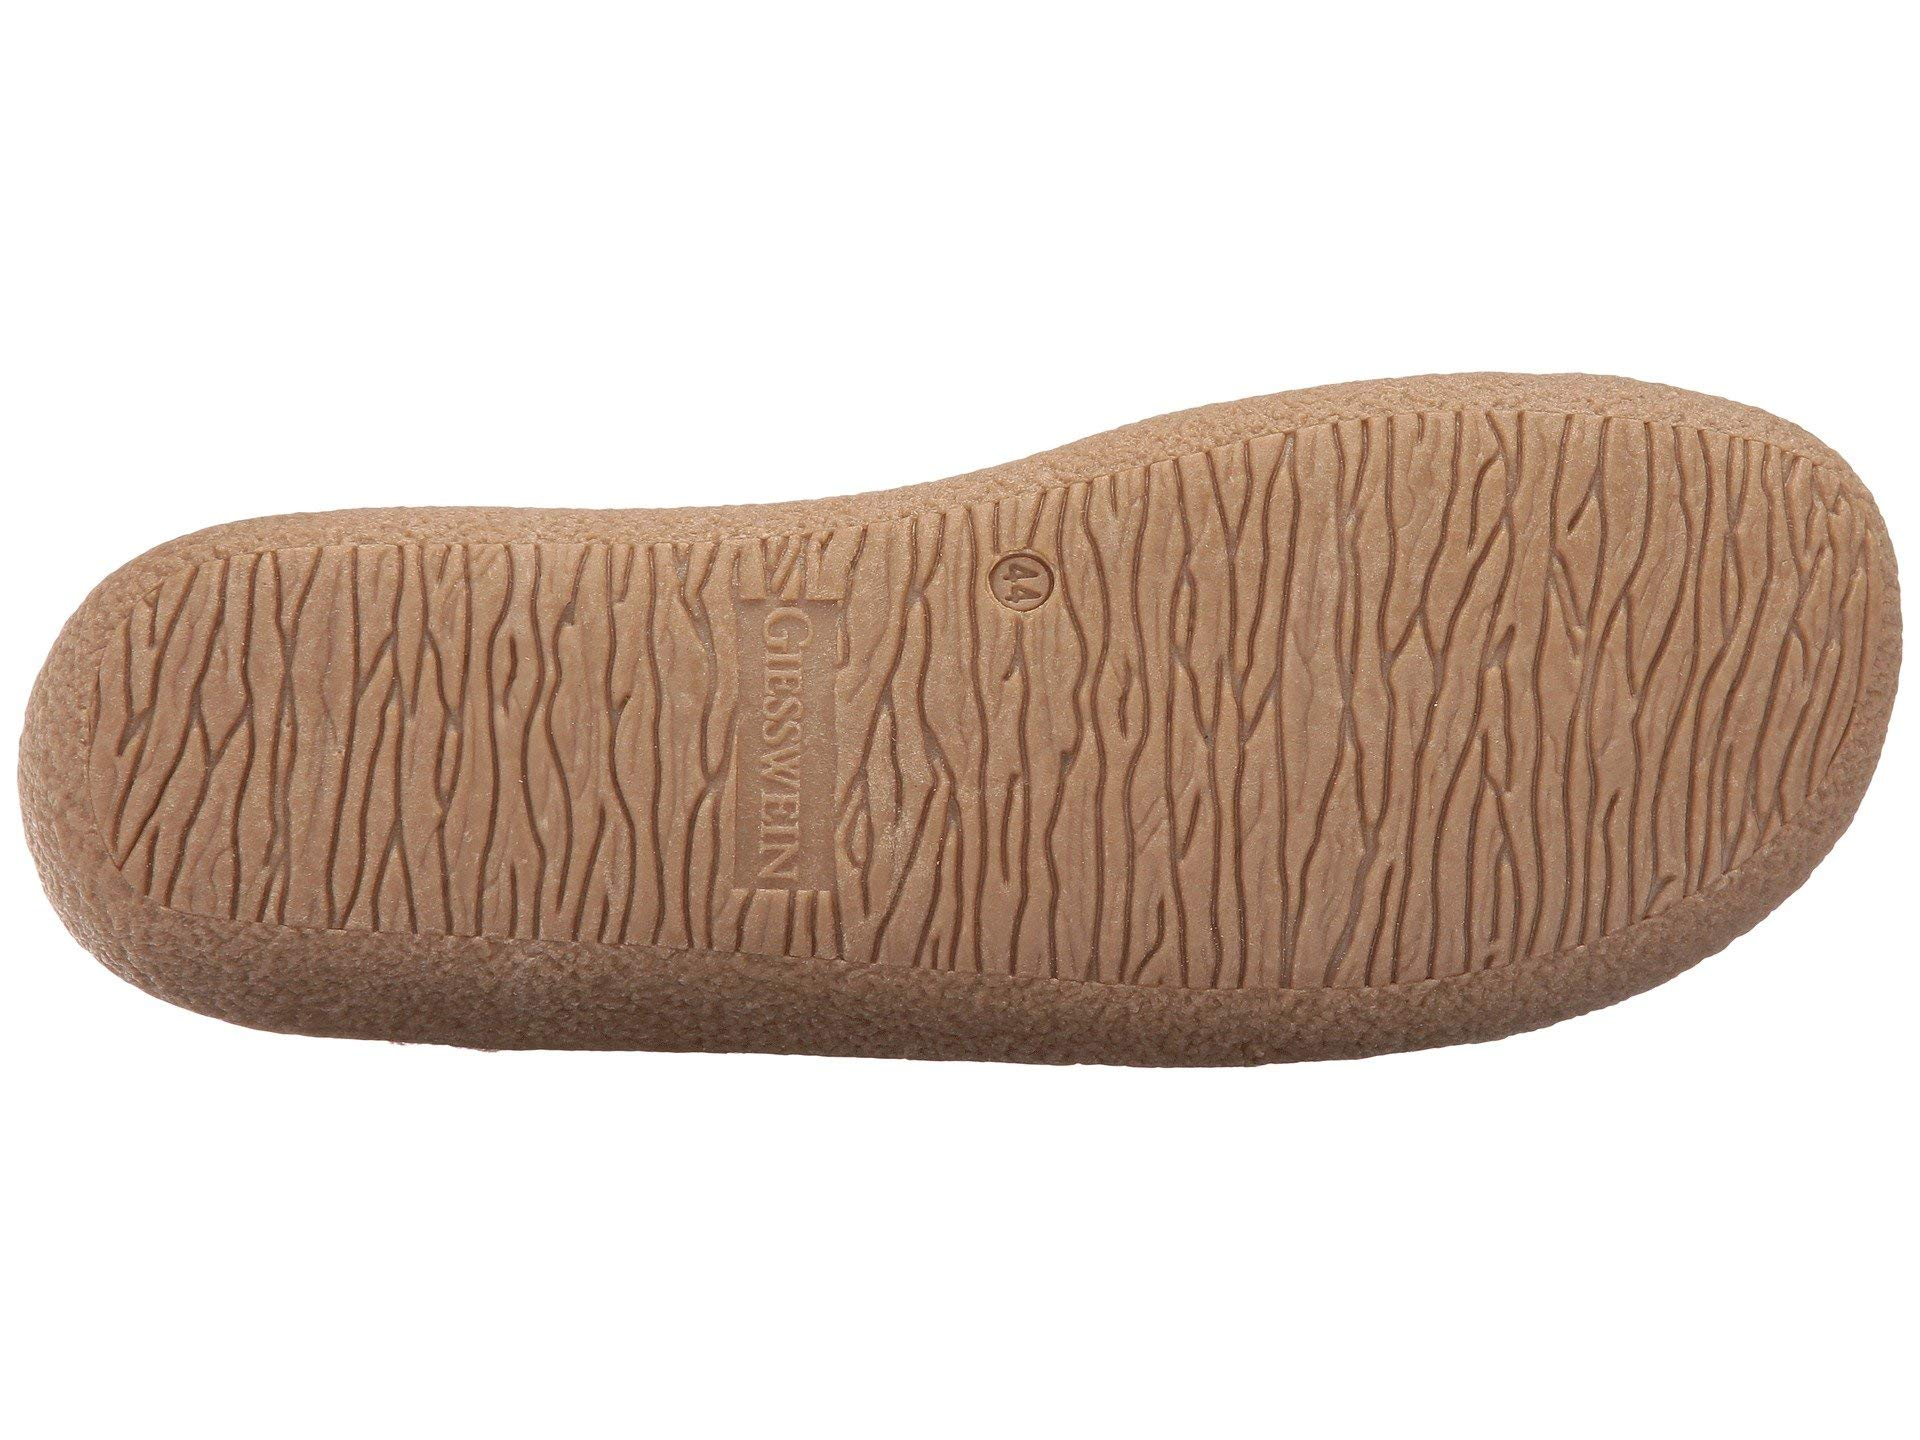circle: (943, 514, 1098, 670)
line: (662, 561, 933, 926), (943, 514, 1098, 670)
quad: (662, 561, 933, 926)
text: (662, 561, 933, 926), (943, 514, 1098, 670)
